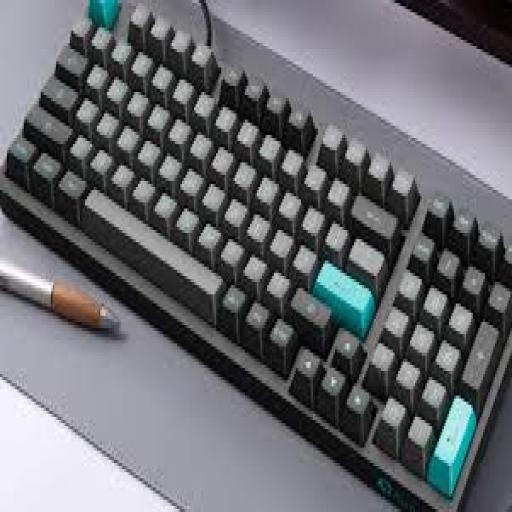KEYBOARD-2: (1, 0, 510, 509)
